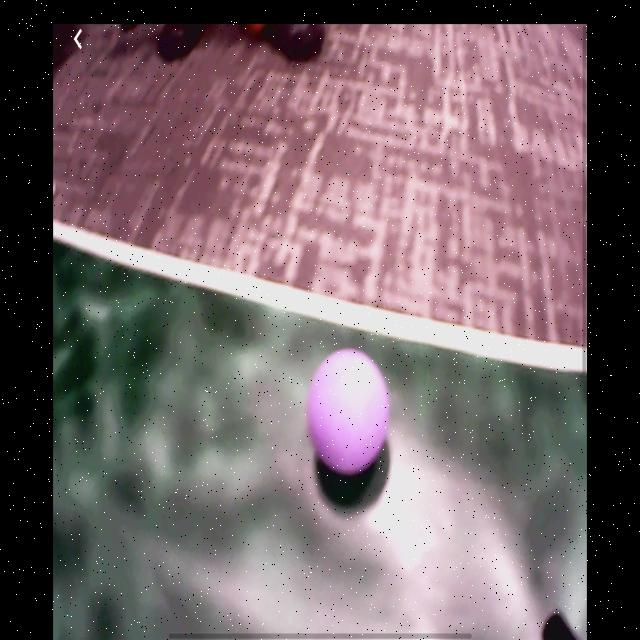ball: (307, 350, 390, 474)
